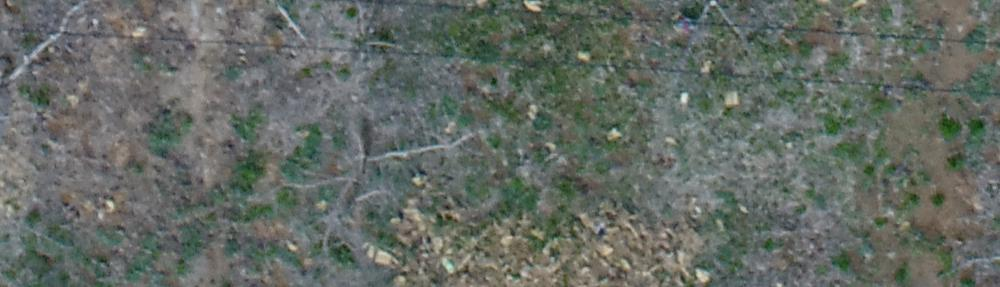apple: (239, 113, 485, 250), (637, 10, 800, 76)
